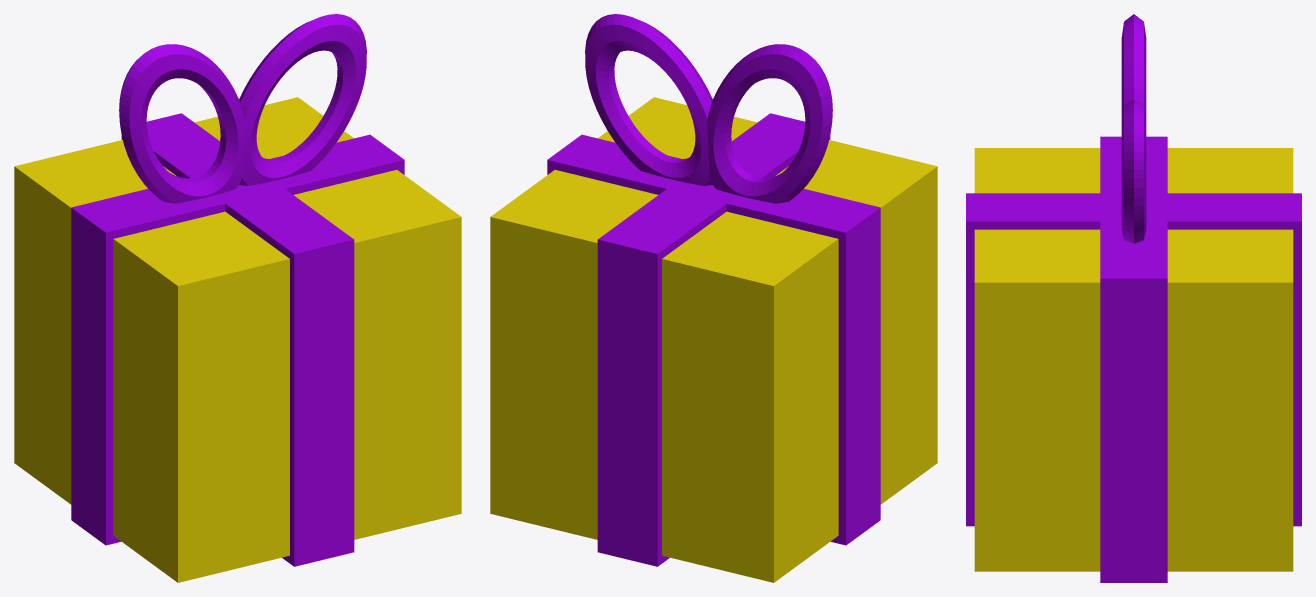
Rendered from presY.fbx.
3 views of the same model, side by side, from view 1: azimuth 30°, elevation 25°; view 2: azimuth 150°, elevation 25°; view 3: azimuth 270°, elevation 25° (orthographic). The views are drawn at different scales.
Parts seen in each view (by area): view 1: PresY; view 2: PresY; view 3: PresY.
Part boxes in pixels (box(x1,y1,x2,y2)): PresY: box(14, 14, 461, 582); PresY: box(490, 14, 937, 582); PresY: box(966, 14, 1301, 582).
Size of the model in its own units: 211 by 317 by 211.
